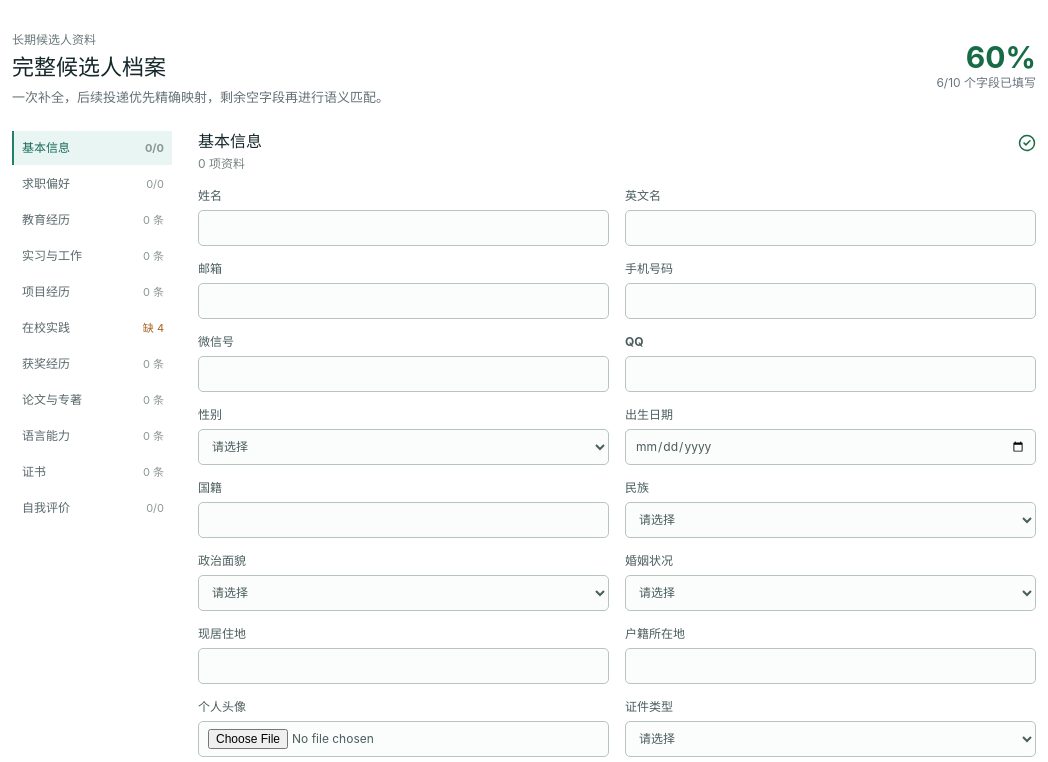
CandidateProfileCenter › explains when campus completion suggestions are all missing dates
What coordinates should you click on to do the following:
click the button "在校实践 缺 4"
I would click on:
 (92, 328)
Its box is [12,311,172,345].
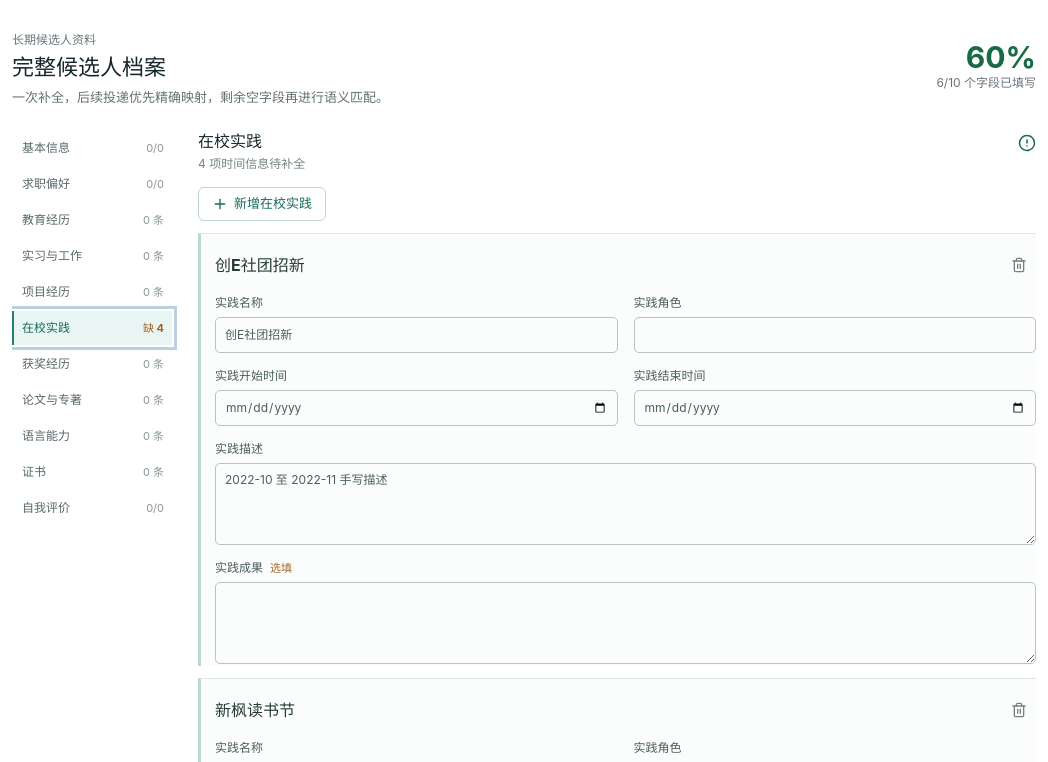
Expected: the text "4 项时间信息待补全" is shown, [198,155,305,173]
Expected: the text box labelled "实践描述" holds "2022-10 至 2022-11 手写描述", [215,463,1036,545]
